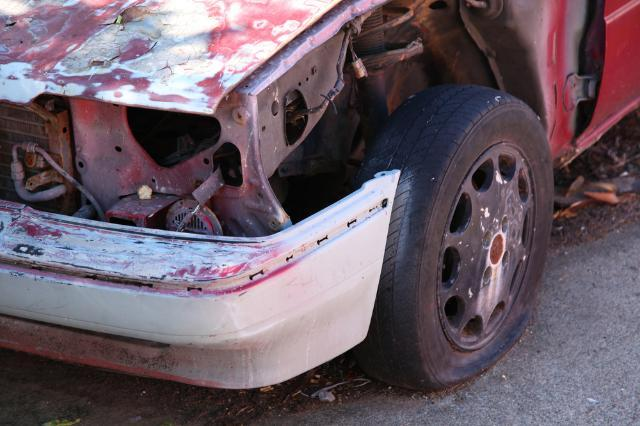no part: (216, 0, 603, 229), (18, 96, 292, 237)
tire flat: (355, 85, 555, 390)
